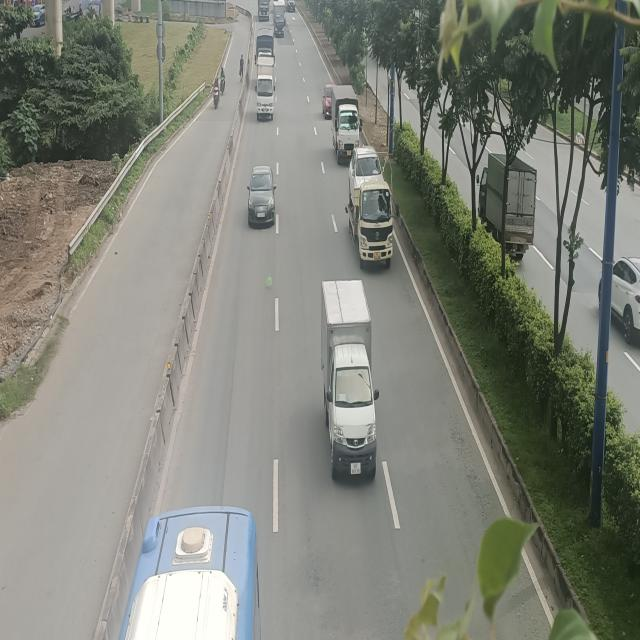car: (246, 164, 276, 228)
truck: (320, 280, 379, 481), (345, 184, 392, 270), (332, 88, 362, 163), (255, 55, 275, 120), (273, 0, 285, 37)
